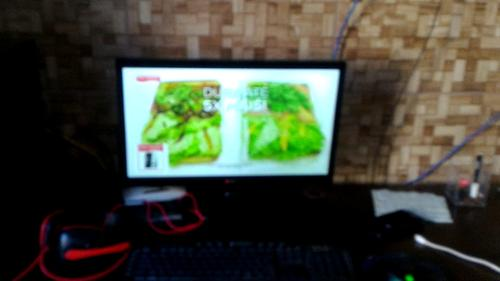Polishop #1: (133, 143, 168, 174)
